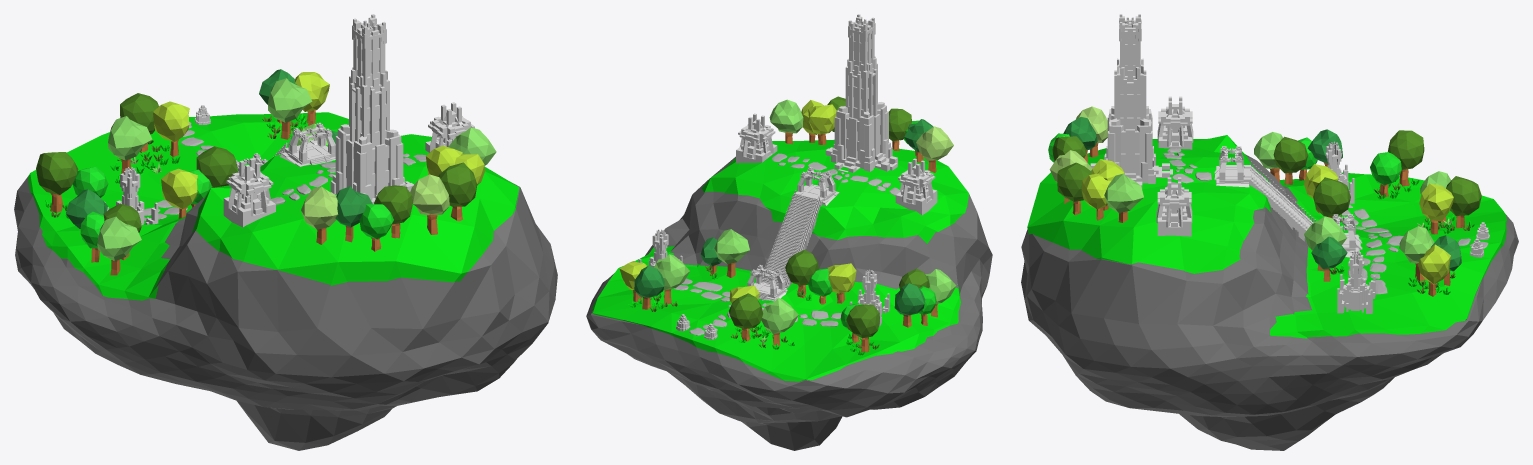
The model's file is TheLandInTheSky.fbx.
The picture shows the model from 3 angles, left to right: view 1: azimuth 30°, elevation 25°; view 2: azimuth 150°, elevation 25°; view 3: azimuth 270°, elevation 25°; orthographic projection. The views are drawn at different scales.
Parts seen in each view (by area): view 1: Icosphere.001, Icosphere, Cube, Cube.005, Cube.001, Icosphere.073, Icosphere.057, Icosphere.071, Icosphere.058, Cube.004, Icosphere.062, Icosphere.050 (+16 smaller); view 2: Icosphere.001, Icosphere, Cube, Cube.001, Cube.005, Cube.004, Icosphere.060, Icosphere.073, Icosphere.057, Icosphere.063, Icosphere.059, Icosphere.049 (+14 smaller); view 3: Icosphere.001, Icosphere, Cube, Cube.001, Cube.004, Cube.003, Cube.005, Icosphere.061, Icosphere.049, Icosphere.073, Icosphere.060, Icosphere.054 (+17 smaller).
Part boxes in pixels (x1,y1,x2,y2): Icosphere.001: (14,175,557,450); Icosphere: (28,112,518,300); Cube: (330,14,413,204); Cube.005: (223,158,275,227); Cube.001: (235,122,335,172); Icosphere.073: (36,152,78,194); Icosphere.057: (108,116,152,160); Icosphere.071: (97,216,141,260); Icosphere.058: (268,78,312,122); Cube.004: (425,102,474,152); Icosphere.062: (410,174,449,215); Icosphere.050: (438,162,477,206); Icosphere.001: (586,156,992,450); Icosphere: (592,139,968,381); Cube: (825,14,897,172); Cube.001: (747,167,839,301); Cube.005: (895,158,937,215); Cube.004: (736,113,777,163); Icosphere.060: (729,293,763,328); Icosphere.073: (846,304,879,338); Icosphere.057: (761,298,798,333); Icosphere.063: (916,126,953,160); Icosphere.059: (714,229,749,264); Icosphere.049: (769,99,803,133); Icosphere.001: (1021,154,1518,450); Icosphere: (1027,135,1506,338); Cube: (1090,14,1172,189); Cube.001: (1214,146,1362,257); Cube.004: (1156,177,1192,236); Cube.003: (1337,250,1375,313); Cube.005: (1157,96,1193,149); Icosphere.061: (1313,177,1350,216); Icosphere.049: (1104,174,1143,212); Icosphere.073: (1388,130,1424,169); Icosphere.060: (1446,176,1481,215); Icosphere.054: (1419,183,1453,221).
Bounding box in the file's own units: 3532 × 3843 × 4061.
